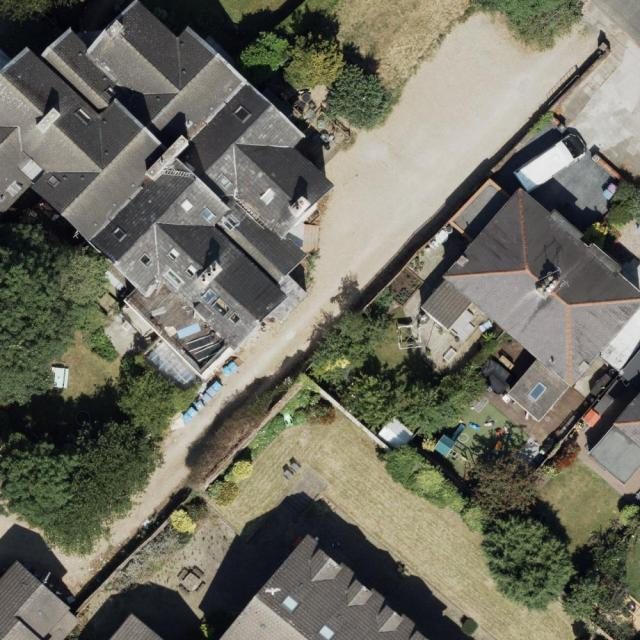roof: (0, 0, 335, 380), (422, 177, 640, 422), (219, 532, 434, 640), (0, 560, 82, 640), (587, 390, 640, 484), (113, 612, 165, 640)
skylight: (230, 103, 253, 125), (280, 594, 302, 617), (164, 269, 187, 289), (210, 294, 233, 314), (527, 382, 547, 403), (197, 205, 217, 224), (317, 622, 337, 640), (75, 108, 94, 126), (111, 226, 130, 244), (167, 245, 184, 262), (179, 196, 195, 214), (46, 173, 62, 190), (137, 252, 153, 269), (202, 288, 218, 304), (227, 309, 242, 325)
